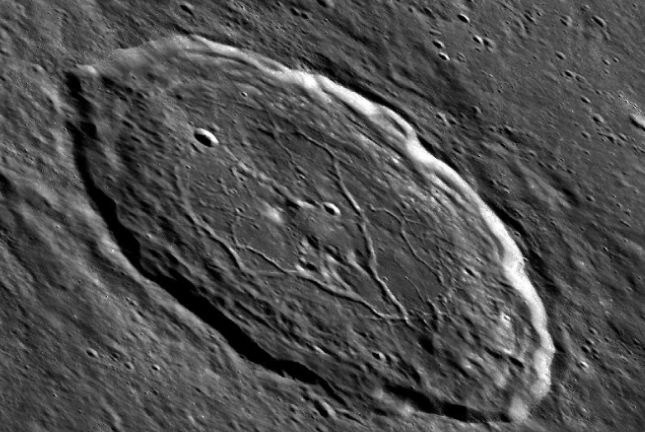crater: (28, 23, 603, 426)
